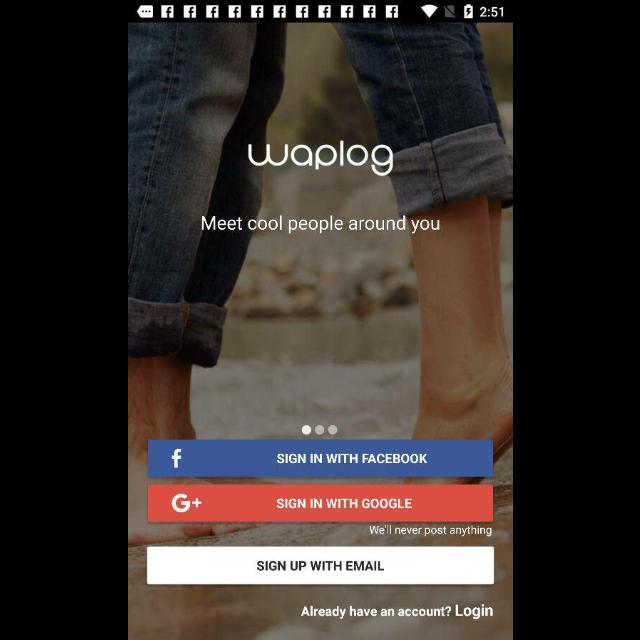backgroundimage: (128, 24, 512, 640)
pageindicator: (300, 425, 338, 435)
text: (248, 140, 392, 178), (201, 216, 439, 234), (301, 605, 451, 619), (368, 525, 492, 537), (455, 604, 493, 620)
textbutton: (147, 546, 493, 584), (148, 484, 492, 522), (148, 439, 492, 476)
uppertaskbar: (128, 1, 512, 23)
